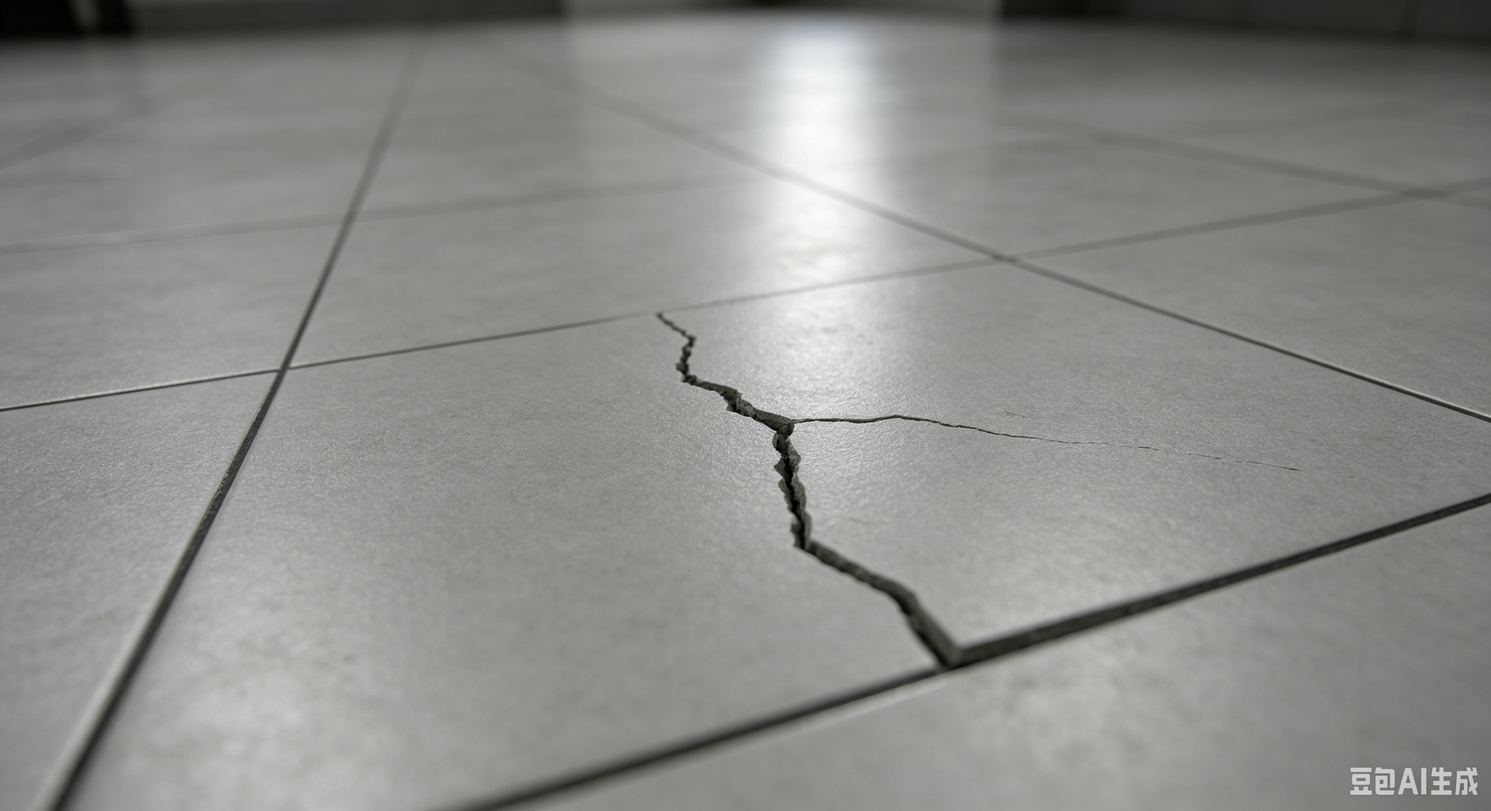floor_defect: (844, 397, 1104, 460), (832, 549, 955, 673), (758, 407, 841, 561), (660, 370, 786, 423), (639, 311, 711, 373)
